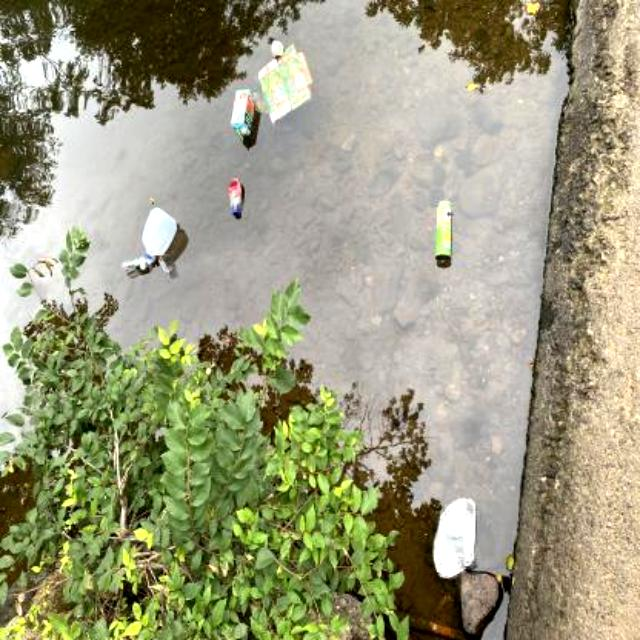Cardboard: (248, 40, 316, 126), (227, 85, 260, 141)
Metal: (426, 488, 482, 582), (428, 196, 457, 268)
Plastic: (140, 202, 180, 264), (224, 174, 248, 216), (121, 253, 153, 277)
